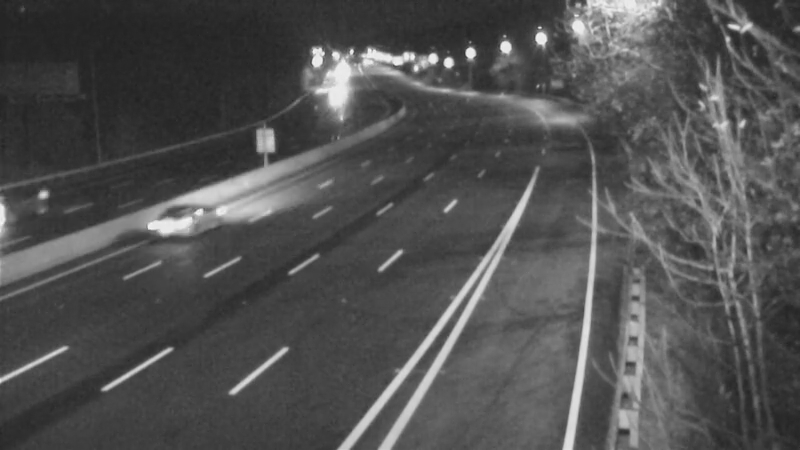vehicle: (135, 176, 215, 256), (1, 170, 70, 250)
